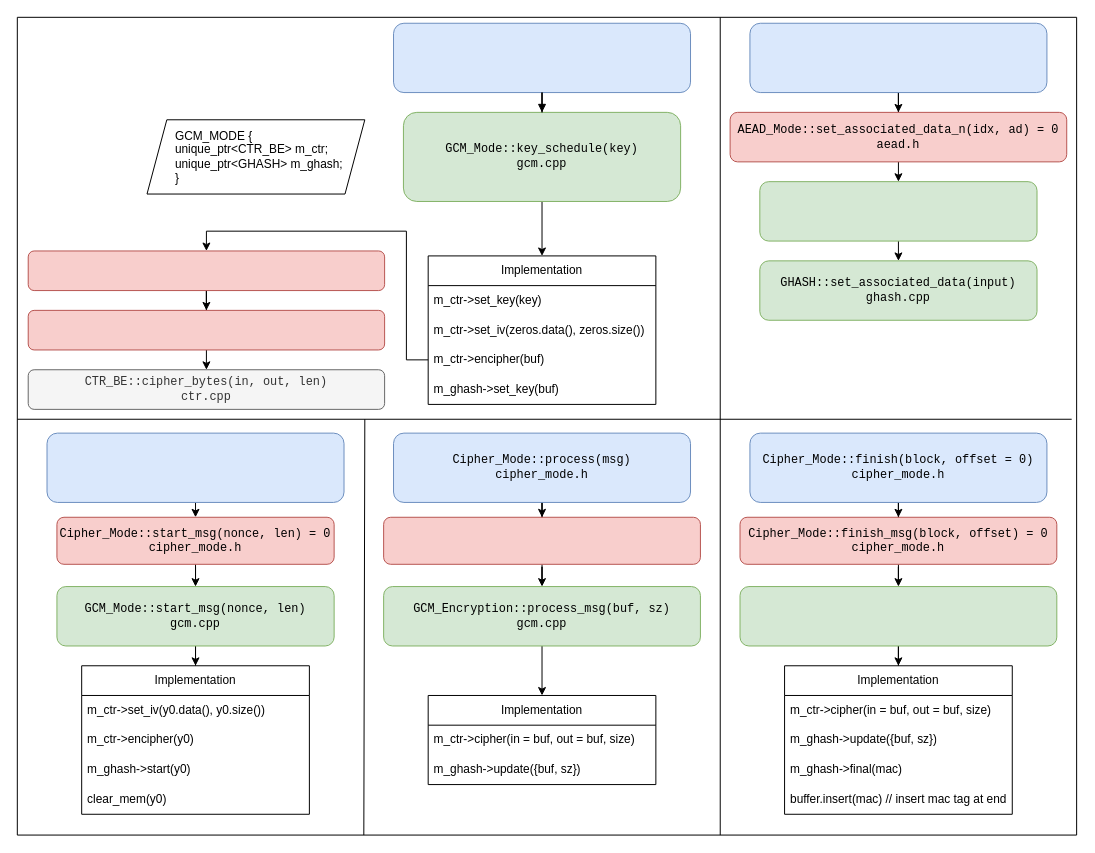
Some shapes in this 1095 by 853 pixel diagram are drawn without their labels. Each missing label, with the centre of its shape:
"AEAD_Mode::set_associated_data(ad) aead.h" goes at point (898, 57).
"Cipher_Mode::process_msg(msg, len) = 0 cipher_mode.h" goes at point (541, 540).
"Cipher_Mode::start(nonce) cipher_mode.h" goes at point (195, 467).
"GCM_Encryption::finish_msg(buffer, offset) gcm.cpp" goes at point (898, 616).
"GCM_Mode::set_associated_data(idx, ad) gcm.cpp" goes at point (898, 211).
"StreamCipher::cipher(in, out, len) stream_cipher.h" goes at point (206, 270).
"StreamCipher::cipher_bytes(in, out, len) = 0; stream_cipher.h" goes at point (206, 329).
"SymmetricAlgorithm::set_key(key) sym_algo.h" goes at point (542, 57).
